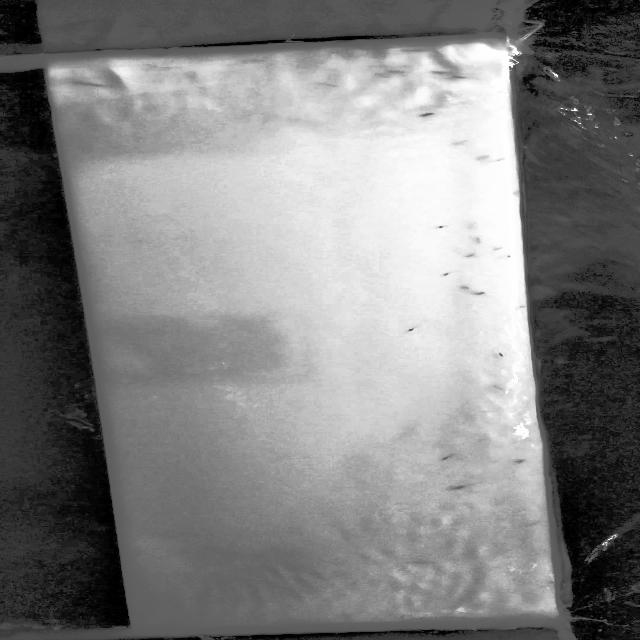shrimp: (435, 480, 476, 496), (388, 324, 432, 338), (409, 102, 442, 120), (440, 135, 470, 153), (425, 455, 463, 469), (425, 265, 463, 279), (482, 342, 506, 363), (472, 289, 503, 303), (427, 218, 457, 232), (502, 454, 530, 468), (470, 235, 493, 248)
